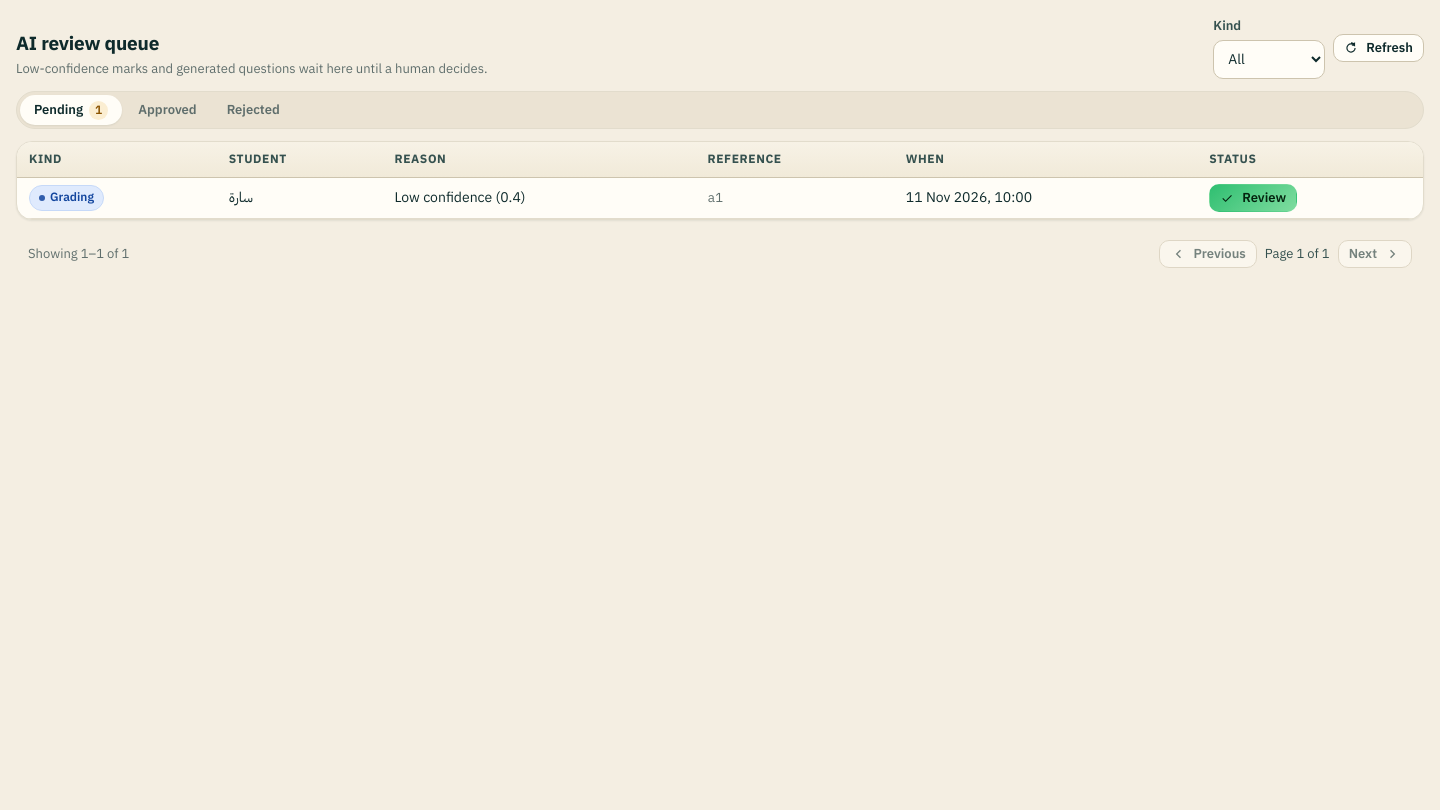
Test: AiReviewsPage › approves a grading review with a note and removes it from the pending queue
Click the text "Low confidence (0.4)" at (460,198), box [394,187,526,208]
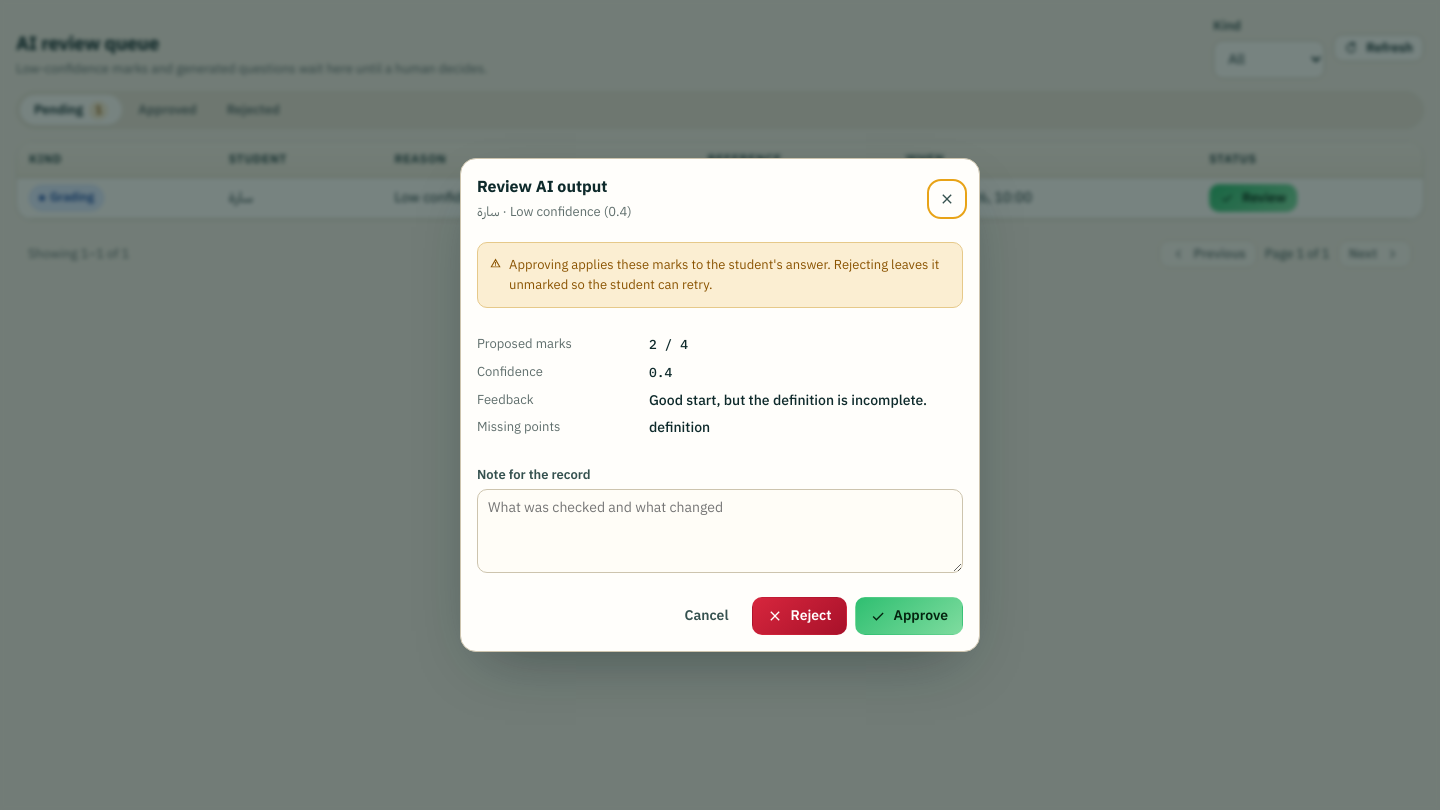
Expected: the text "Good start, but the definition is incomplete." is shown, [649,390,963,411]
Expected: the text "2 / 4" is shown, [649,336,688,353]
Expected: the text "Approving applies these marks" is shown, [509,255,939,294]
Type "checked against the rubric" into the text box labelled "Note for the record" at (720,531), box [477,489,963,573]
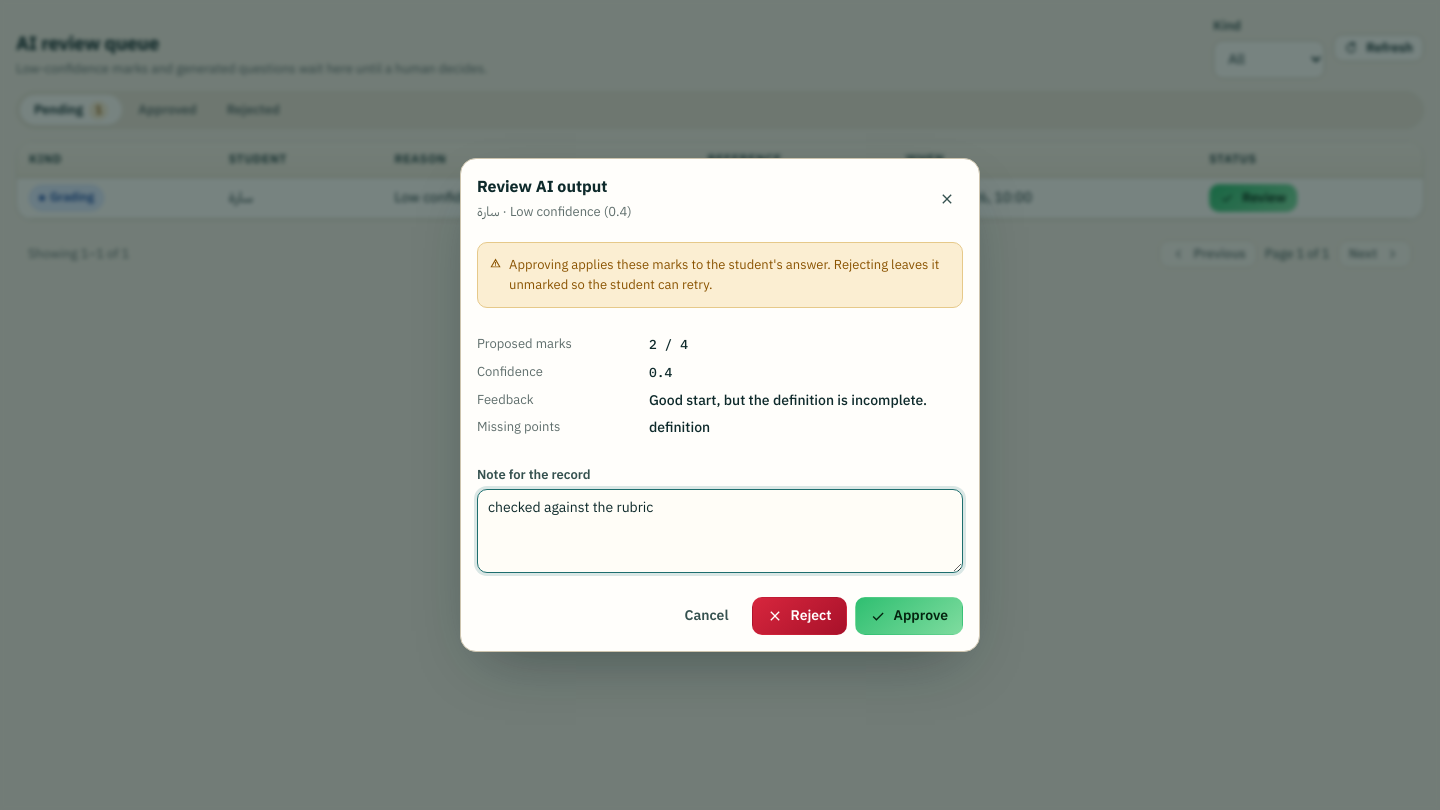
Click the button "Approve" at (909,616), box [854,597,963,635]
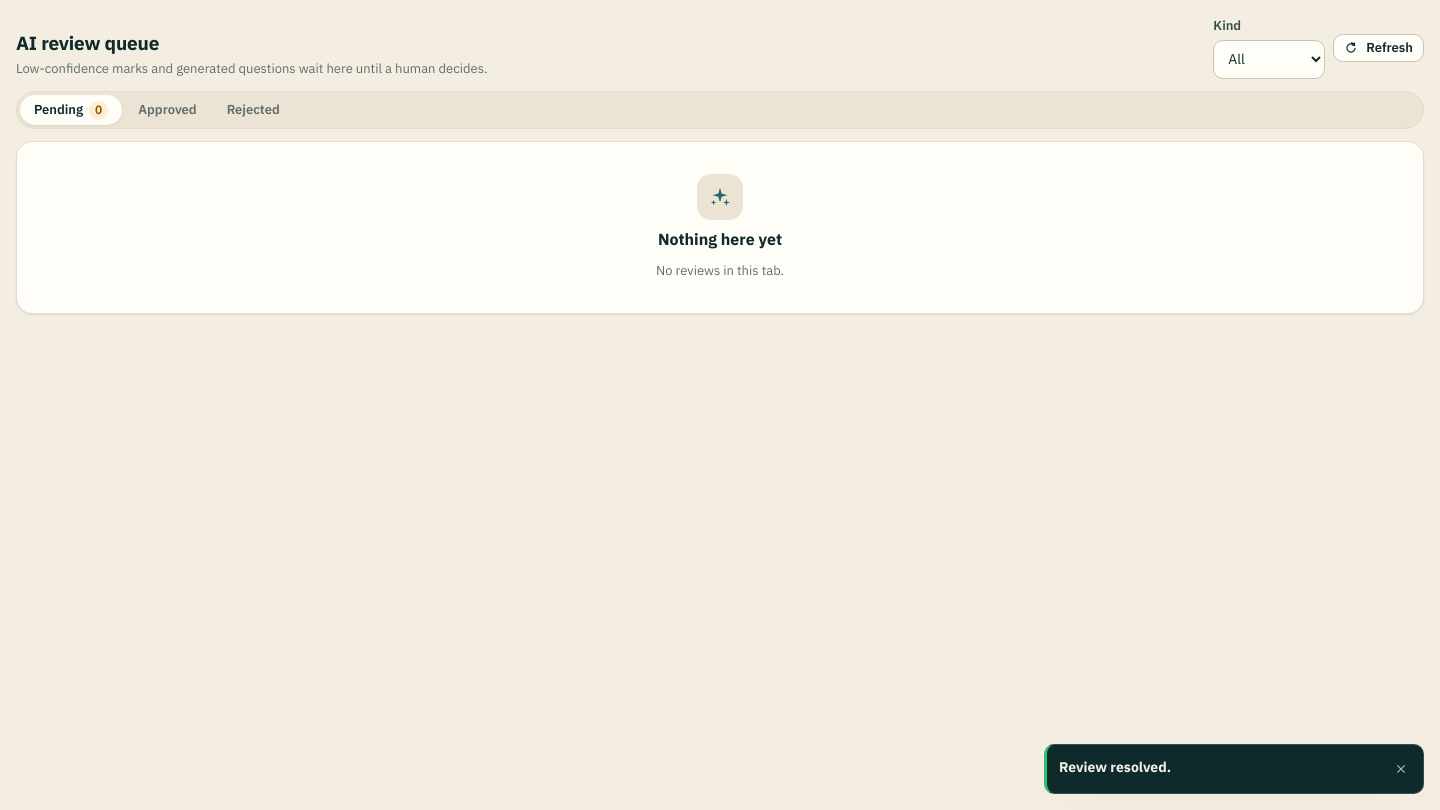
Expected: the dialog is gone
Expected: the text "No reviews in this tab." is shown, [656,261,784,281]
Expected: the text "Review resolved." is shown, [1059,757,1171,778]
